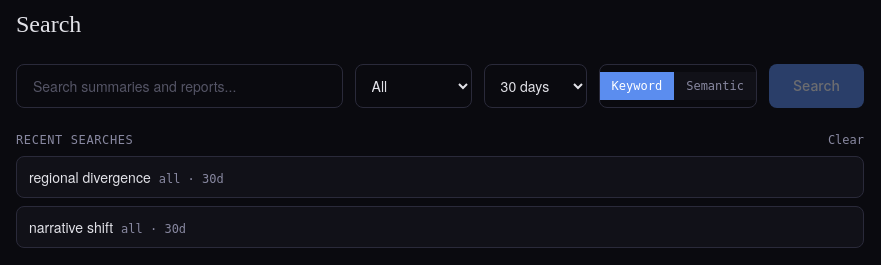
Test case: Search › renders a first-mover preview ahead of unusual activity and macro alerts on report hits when no active chain preview is present
Type "first mover" into the field with placeholder "Search summaries and reports...".
click(179, 86); type("first mover")  # box left=16, top=64, right=343, bottom=108
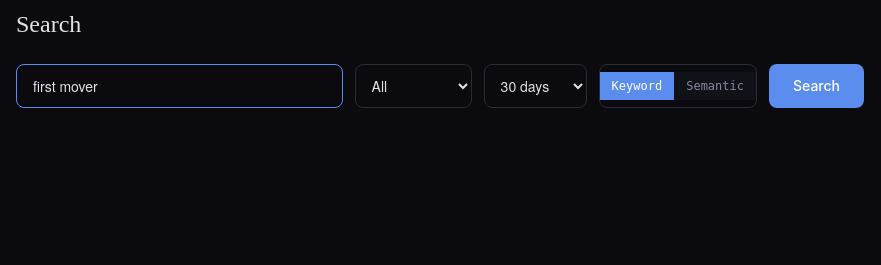
Click the button "Search".
click(816, 86)  # box left=769, top=64, right=864, bottom=108
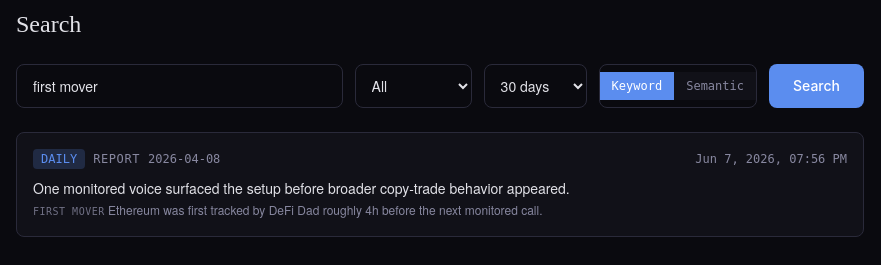
Expected: the text "First Mover" is shown, left=33, top=206, right=105, bottom=217
Expected: the text "Ethereum was first tracked by DeFi Dad roughly 4h before the next monitored call." is shown, left=108, top=201, right=543, bottom=218
